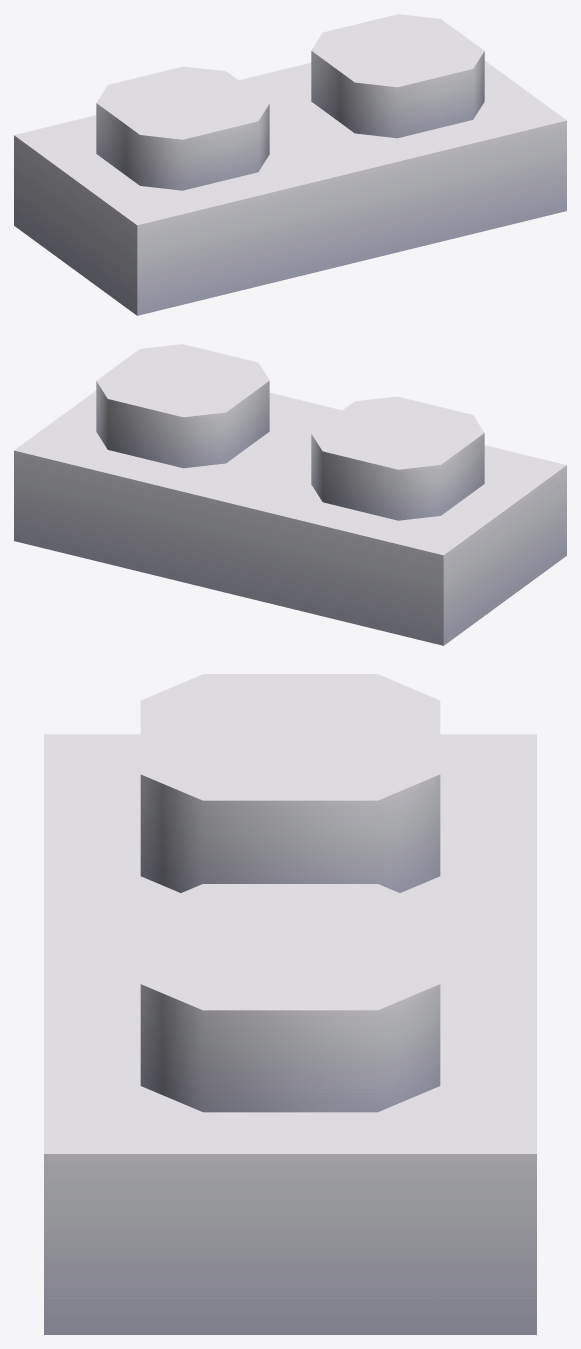
File: bevel-lq-plate-1x2.glb
3 views of the same model, one above another, from view 1: azimuth 30°, elevation 25°; view 2: azimuth 150°, elevation 25°; view 3: azimuth 270°, elevation 25° (orthographic). The views are drawn at different scales.
Visible parts, largest first — view 1: bevel-lq-plate-1x2; view 2: bevel-lq-plate-1x2; view 3: bevel-lq-plate-1x2.
Boxes of the visible parts, left/top/right/bottom form: bevel-lq-plate-1x2: left=14, top=14, right=566, bottom=315; bevel-lq-plate-1x2: left=14, top=344, right=566, bottom=645; bevel-lq-plate-1x2: left=44, top=674, right=536, bottom=1334.
Bounding box in the file's own units: 0.159 × 0.05 × 0.079.
1 material, 1 textured.
